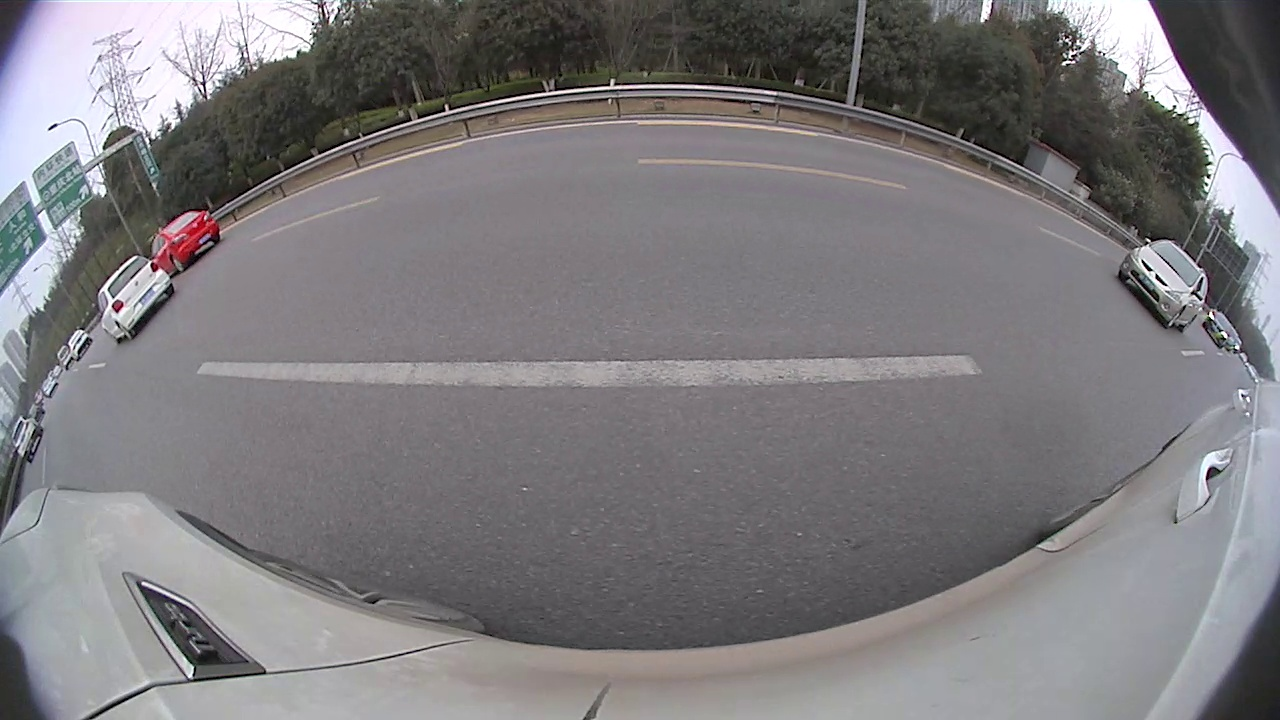bus: (855, 96, 1279, 414), (752, 129, 865, 200)
car: (368, 124, 547, 250), (584, 118, 758, 246), (754, 155, 821, 200), (536, 158, 584, 191)
front: (890, 185, 922, 226), (535, 180, 550, 213)
rear: (1076, 243, 1140, 317), (481, 187, 506, 233), (760, 178, 774, 196)
